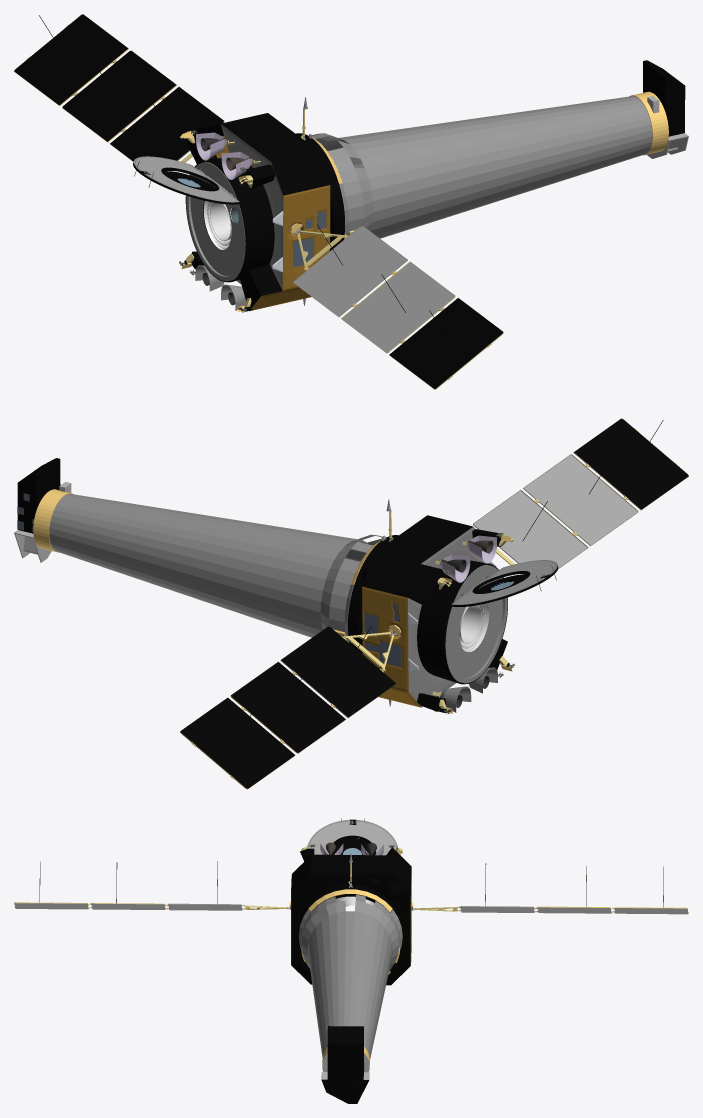
Rendered from entre-spacecraft-0722a.fbx.
3 renders of one model, top to bottom at view 1: azimuth 30°, elevation 25°; view 2: azimuth 150°, elevation 25°; view 3: azimuth 270°, elevation 25°, orthographic. The views are drawn at different scales.
Parts seen in each view (by area): view 1: entire_spacecraft, mirrors_objs; view 2: entire_spacecraft, mirrors_objs; view 3: entire_spacecraft.
Part boxes in pixels (bbox=[...]): entire_spacecraft: bbox=[14, 14, 688, 389]; mirrors_objs: bbox=[206, 201, 231, 249]; entire_spacecraft: bbox=[14, 418, 688, 789]; mirrors_objs: bbox=[459, 604, 485, 651]; entire_spacecraft: bbox=[14, 818, 688, 1103].
Bounding box in the file's own units: 216 × 81.28 × 308.
